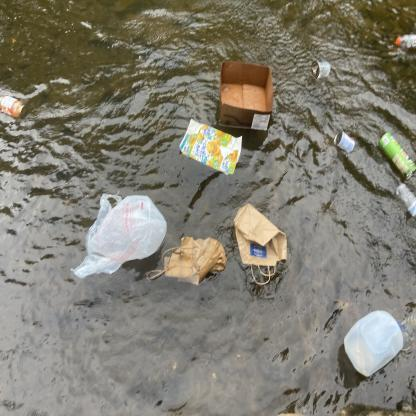trash: (244, 134, 352, 228), (66, 189, 172, 280), (231, 201, 292, 291), (338, 306, 410, 381), (142, 232, 231, 288), (213, 58, 276, 135), (176, 115, 246, 178), (375, 126, 416, 182), (392, 179, 416, 218), (0, 93, 27, 123), (310, 56, 336, 83), (390, 28, 416, 53), (332, 130, 356, 152)
